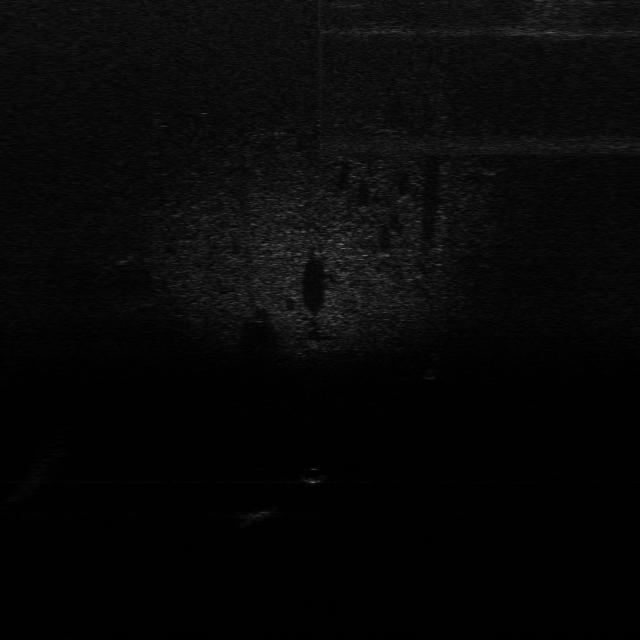ball: (299, 464, 327, 485)
square cage: (233, 502, 287, 524)
tyre: (417, 348, 449, 382)
